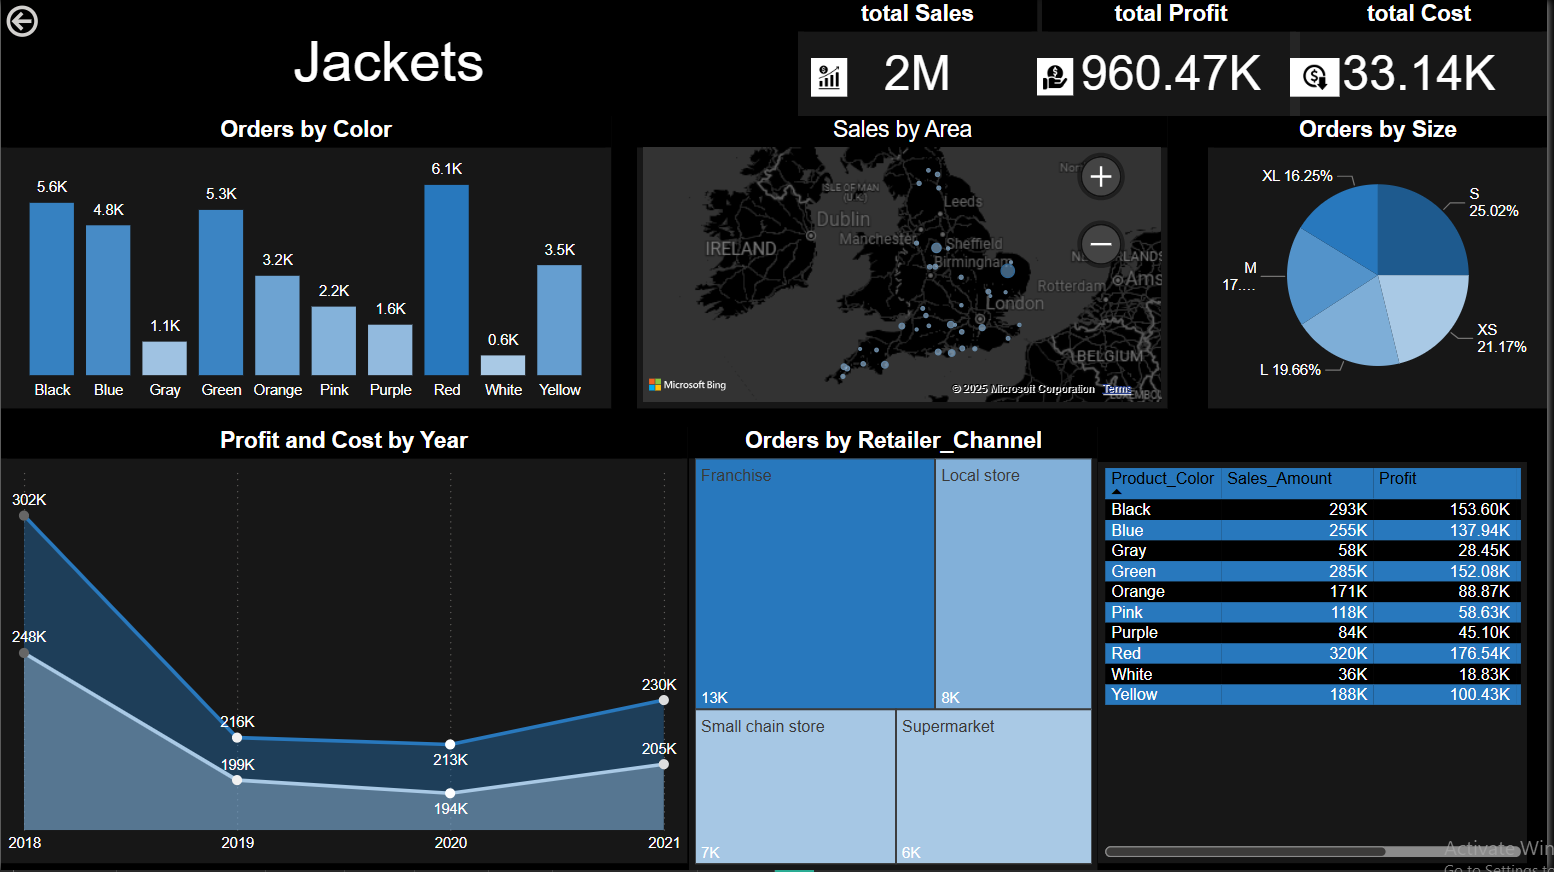

This screenshot's page, from the dashboard's own definition file:
{"tool":"powerbi","page":{"name":"Jackets","canvas":[1280,720],"ordinal":2},"visuals":[{"type":"group","id":"g1","title":"Group 1","box":[0,0,641.9,95.7],"z":0},{"type":"card","fields":{"Values":["Table.Jackets"]},"box":[0,0,641.9,95.7],"z":0,"group":"g1"},{"type":"card","title":"total Sales","fields":{"Values":["Sum(Orders.Sales_Amount)"]},"box":[659.6,0,197.8,96],"z":0,"group":"g3"},{"type":"card","title":"total Profit","fields":{"Values":["Sum(Orders.Profit)"]},"box":[861.3,0,213.4,95.7],"z":0,"group":"g2"},{"type":"card","title":"total Cost","fields":{"Values":["Sum(Orders.Product_Cost)"]},"box":[1066.6,0,213.4,95.7],"z":0,"group":"g4"},{"type":"actionButton","box":[0,0,57.4,35.1],"z":1000,"group":"g1"},{"type":"image","box":[857.1,48.1,30.5,31.4],"z":1000,"group":"g2"},{"type":"image","box":[670.2,48.3,30.1,31.5],"z":1000,"group":"g3"},{"type":"image","box":[1066.6,48.3,41.3,31.6],"z":1000,"group":"g4"},{"type":"group","id":"g2","title":"Group 2","box":[857.1,0,217.5,95.7],"z":10001},{"type":"group","id":"g3","title":"Group 3","box":[659.6,0,197.8,96],"z":10002},{"type":"clusteredColumnChart","title":"Orders by Color","fields":{"Y":["Sum(Orders. Order_Quantity )"],"Category":["Products.Product_Color","Products.Product_Size"]},"box":[0,96,504.8,242.5],"z":10003},{"type":"tableEx","fields":{"Values":["Products.Product_Color","Sum(Orders.Sales_Amount)","Sum(Orders.Profit)","Sum(Orders.Cost_of_Goods_Sold)"]},"box":[907.9,382.3,355,331.9],"z":10004},{"type":"areaChart","title":"Profit and Cost by Year","fields":{"Category":["Orders.Order_Date.Variation.Date Hierarchy.Year","Orders.Order_Date.Variation.Date Hierarchy.Month"],"Y":["Sum(Orders.Profit)","Sum(Orders.Cost_of_Goods_Sold)"]},"box":[0,353.6,567.5,360.5],"z":10005},{"type":"treemap","title":"  Orders  by Retailer_Channel","fields":{"Values":["Sum(Orders. Order_Quantity )"],"Group":["Retailers.Retailer_Channel","Products.Product_Size"]},"box":[569.4,353.4,338.5,366.6],"z":10006},{"type":"pieChart","title":" Orders by Size","fields":{"Y":["Sum(Orders. Order_Quantity )"],"Category":["Products.Product_Size"]},"box":[998.8,95.7,281.2,242.4],"z":10007},{"type":"group","id":"g4","title":"Group 4","box":[1066.6,0,213.4,95.7],"z":10008},{"type":"map","title":" Sales by Area","fields":{"Size":["Sum(Orders.Sales_Amount)"],"Category":["Retailers.City","Retailers.Area"]},"box":[526.3,96,439.4,242.5],"z":10009}]}

Visuals, with their boxes in screenshot pixels (x1, y1, x2, y2), scaled from the page's 1280x720 canvas onto the 1554x872 screenshot:
"Group 1" group: l=0, t=0, r=779, b=116
card - Table.Jackets: l=0, t=0, r=779, b=116
"total Sales" card: l=801, t=0, r=1041, b=116
"total Profit" card: l=1046, t=0, r=1305, b=116
"total Cost" card: l=1295, t=0, r=1553, b=116
actionButton: l=0, t=0, r=70, b=43
image: l=1041, t=58, r=1078, b=96
image: l=814, t=58, r=850, b=97
image: l=1295, t=58, r=1345, b=97
"Group 2" group: l=1041, t=0, r=1305, b=116
"Group 3" group: l=801, t=0, r=1041, b=116
"Orders by Color" clusteredColumnChart: l=0, t=116, r=613, b=410
tableEx - Products.Product_Color x Sum(Orders.Sales_Amount): l=1102, t=463, r=1533, b=865
"Profit and Cost by Year" areaChart: l=0, t=428, r=689, b=865
"  Orders  by Retailer_Channel" treemap: l=691, t=428, r=1102, b=871
" Orders by Size" pieChart: l=1213, t=116, r=1553, b=409
"Group 4" group: l=1295, t=0, r=1553, b=116
" Sales by Area" map: l=639, t=116, r=1172, b=410
